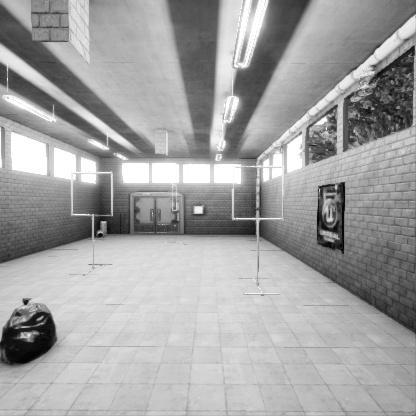gate: (234, 198, 289, 252), (75, 202, 118, 244), (172, 205, 176, 233)
